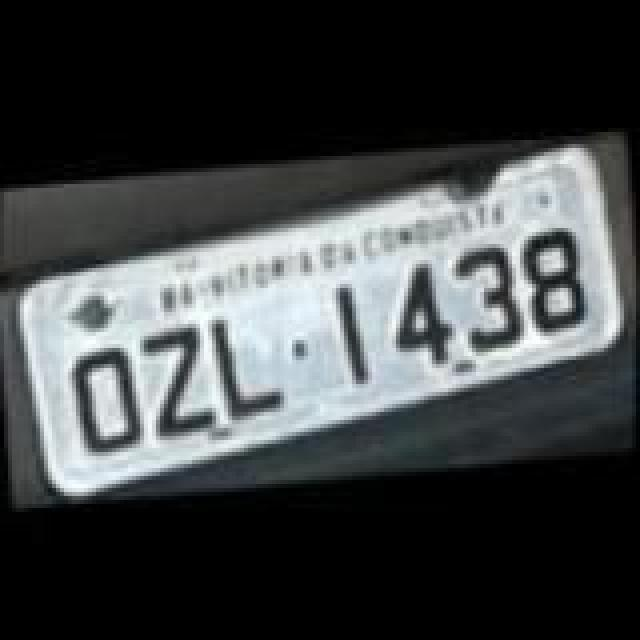1: (318, 278, 390, 390)
3: (442, 230, 530, 362)
4: (380, 258, 464, 374)
8: (516, 212, 600, 332)
L: (202, 306, 290, 422)
O: (66, 338, 150, 462)
Z: (128, 318, 216, 442)
